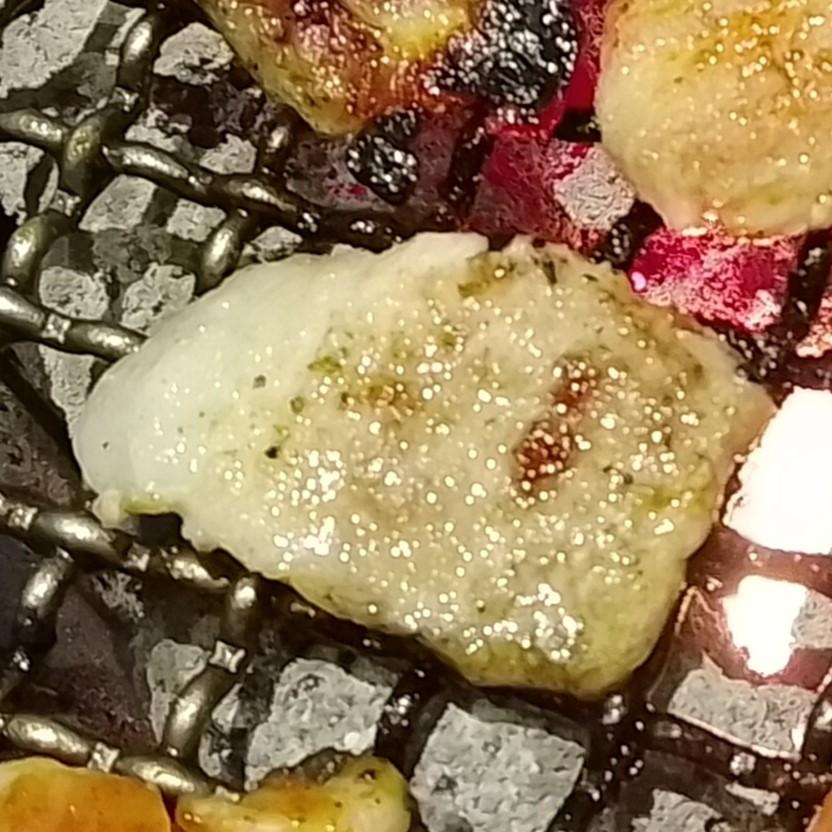Overcooked: (214, 0, 597, 205)
Well-Cooked: (67, 233, 778, 705), (596, 0, 831, 236)
